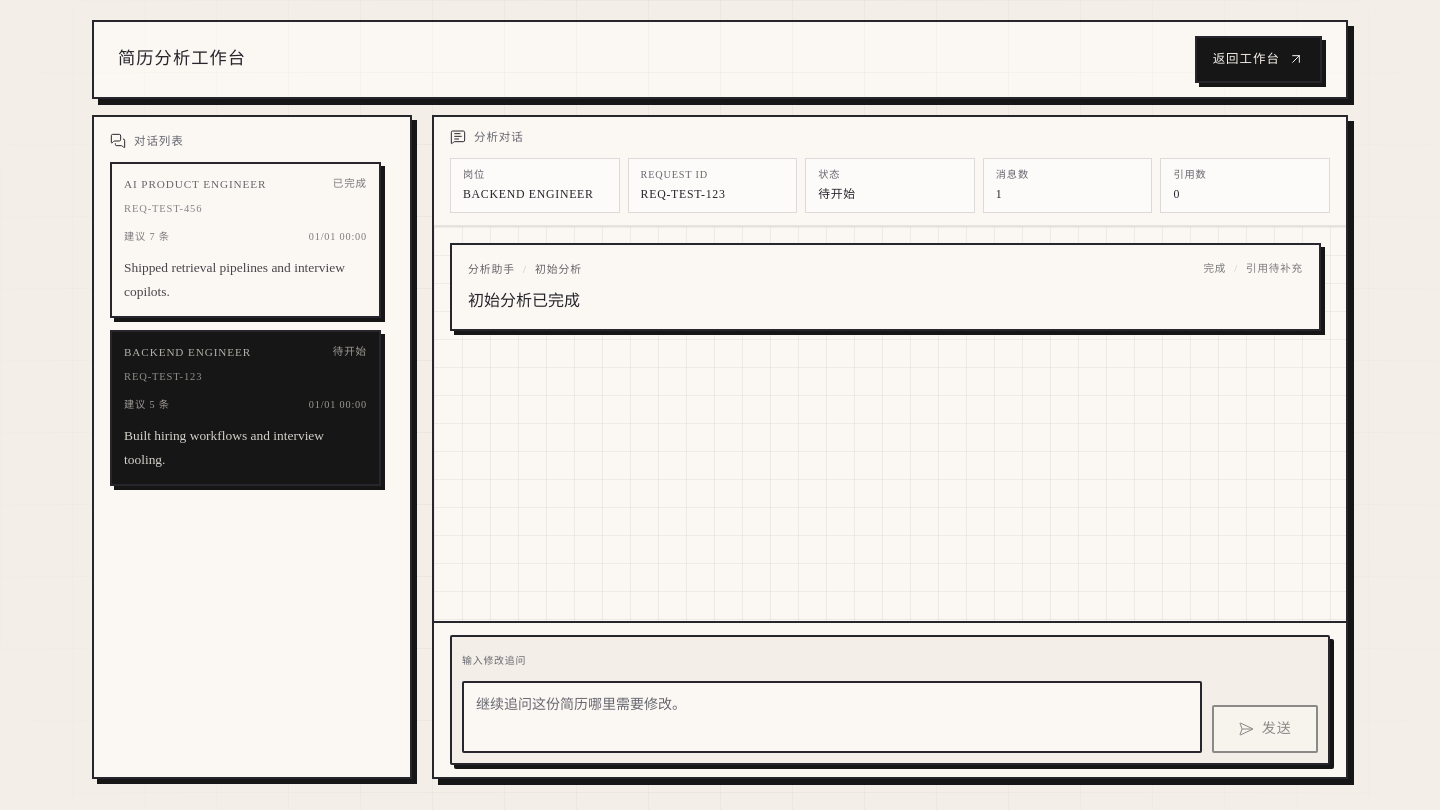
Test: ResultsWorkspace › marks an interrupted follow-up as error instead of leaving it streaming forever
The image size is (1440, 810).
Expected: the text "初始分析已完成" is shown, top-left (468, 292), bottom-right (580, 309)
Type "还有什么信息吗" into the text box labelled "输入修改追问" at {"x": 832, "y": 717}, box top-left (462, 681), bottom-right (1202, 753)
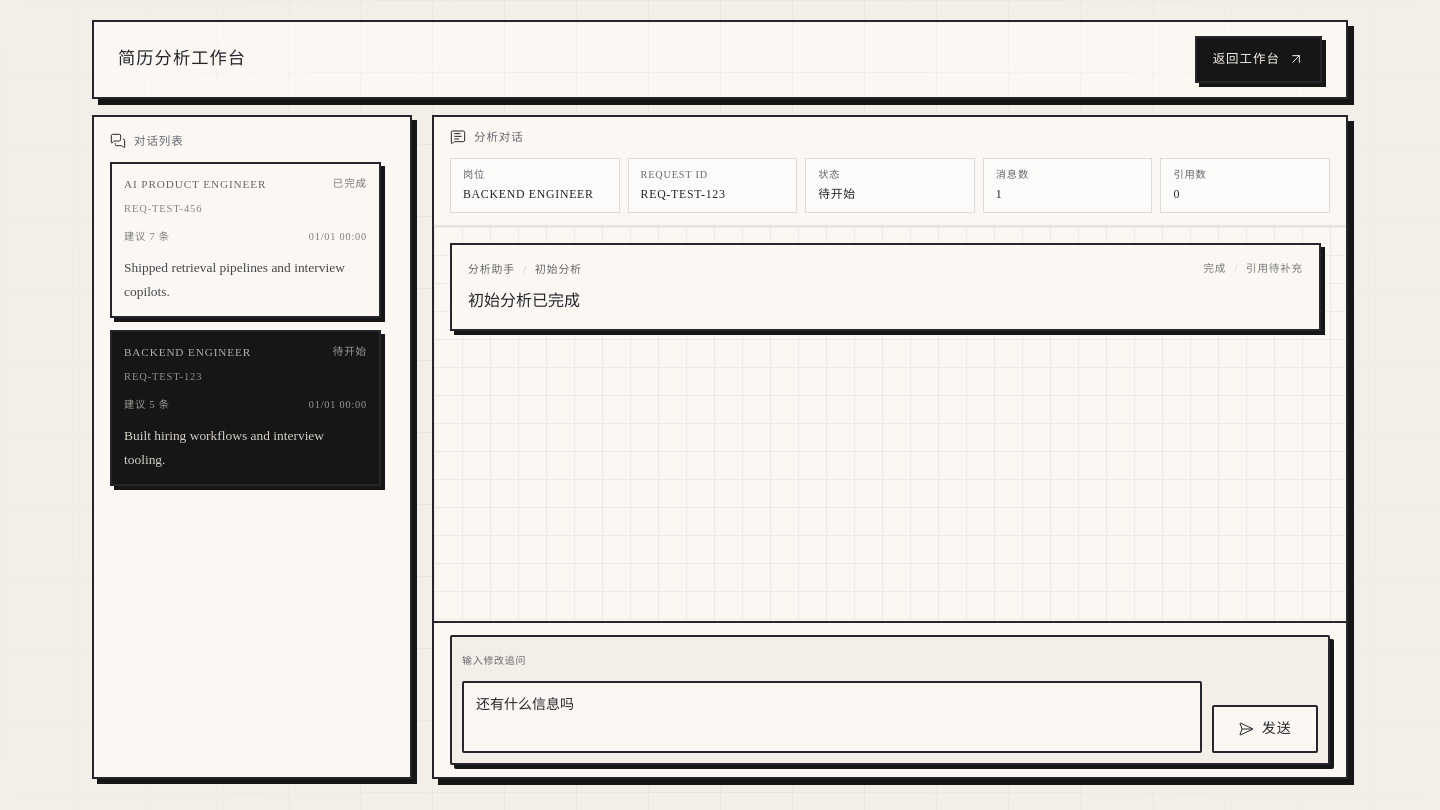
Click the button "发送" at {"x": 1265, "y": 729}, box top-left (1212, 705), bottom-right (1318, 753)
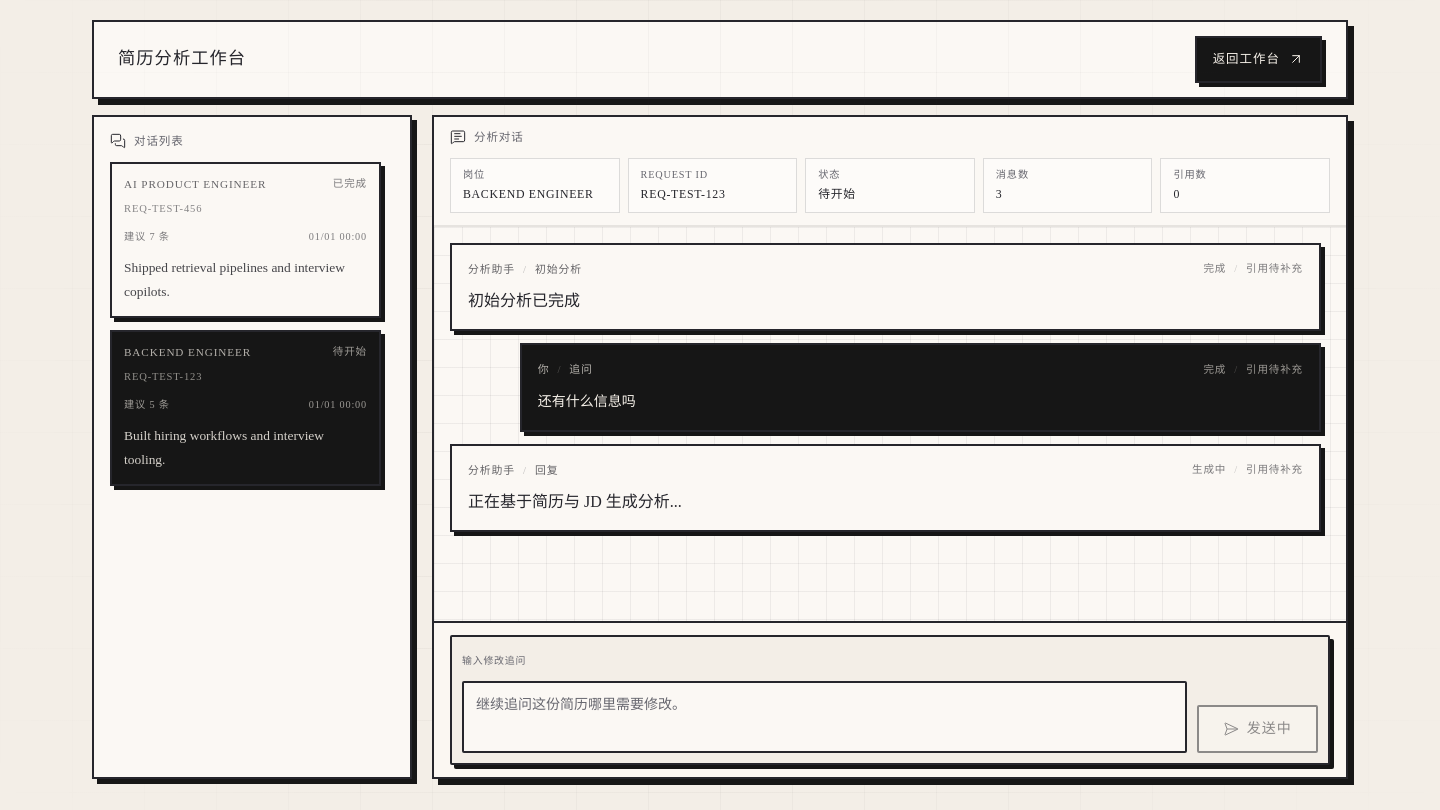
Click the button "AI Product Engineer" at {"x": 195, "y": 184}, box top-left (110, 162), bottom-right (381, 318)
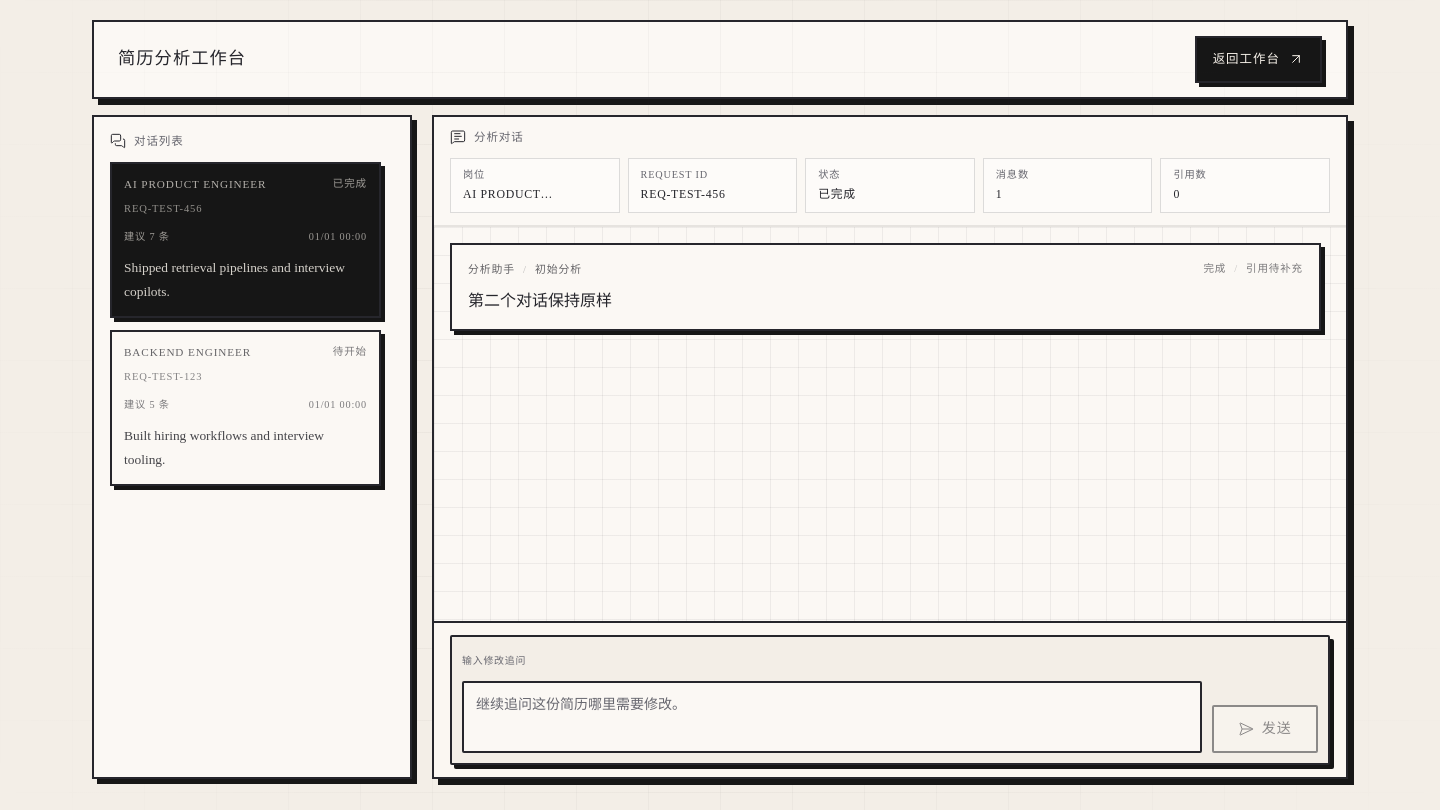
Now the text "第二个对话保持原样" is shown, box top-left (468, 292), bottom-right (612, 309)
Click the button "Backend Engineer" at {"x": 188, "y": 352}, box top-left (110, 330), bottom-right (381, 486)
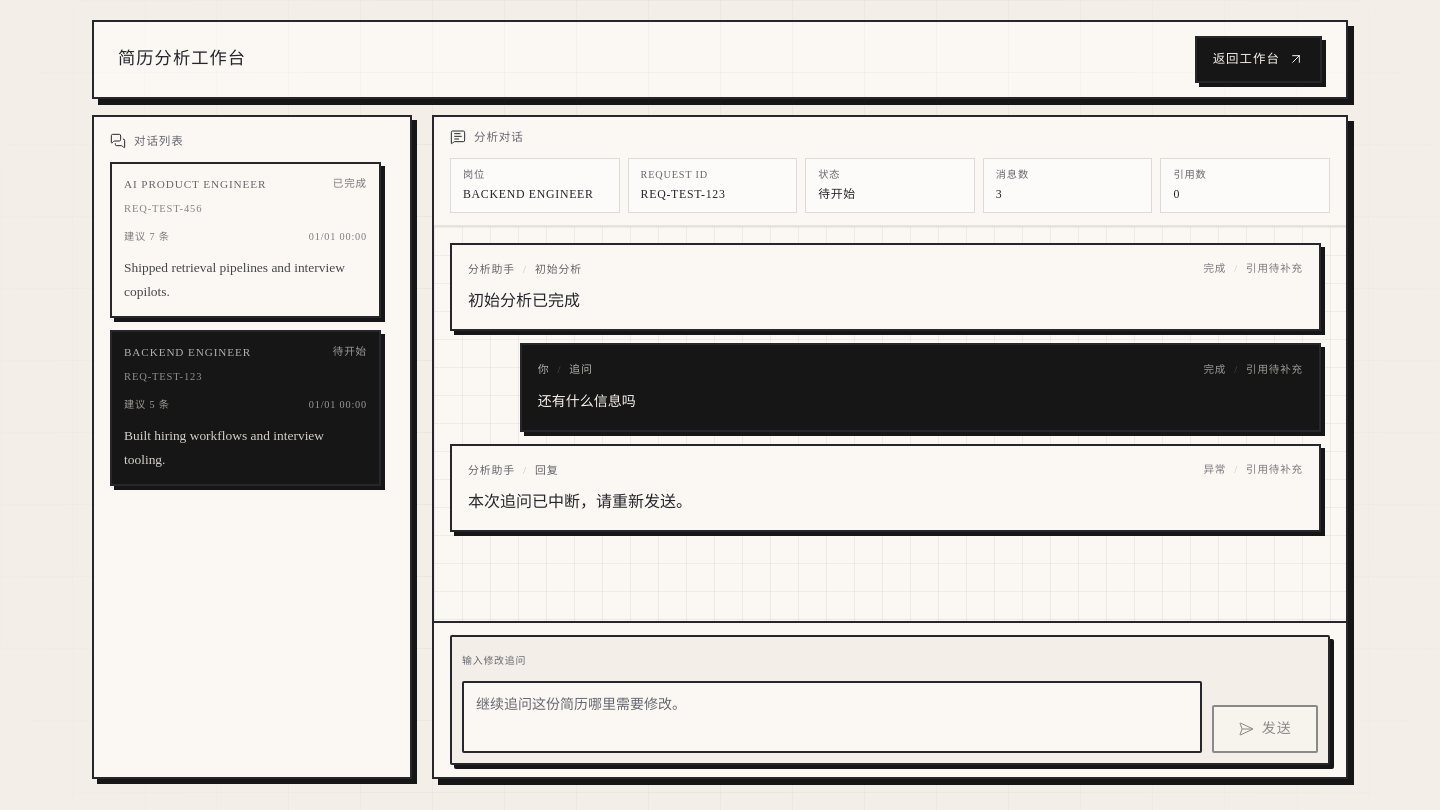
Expected: the text "正在基于简历与 JD 生成分析..." is not shown
Now the text "本次追问已中断，请重新发送。" is shown, box top-left (468, 493), bottom-right (692, 510)
Now the text "还有什么信息吗" is shown, box top-left (538, 394), bottom-right (636, 409)
